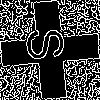S: (25, 25, 74, 63)
